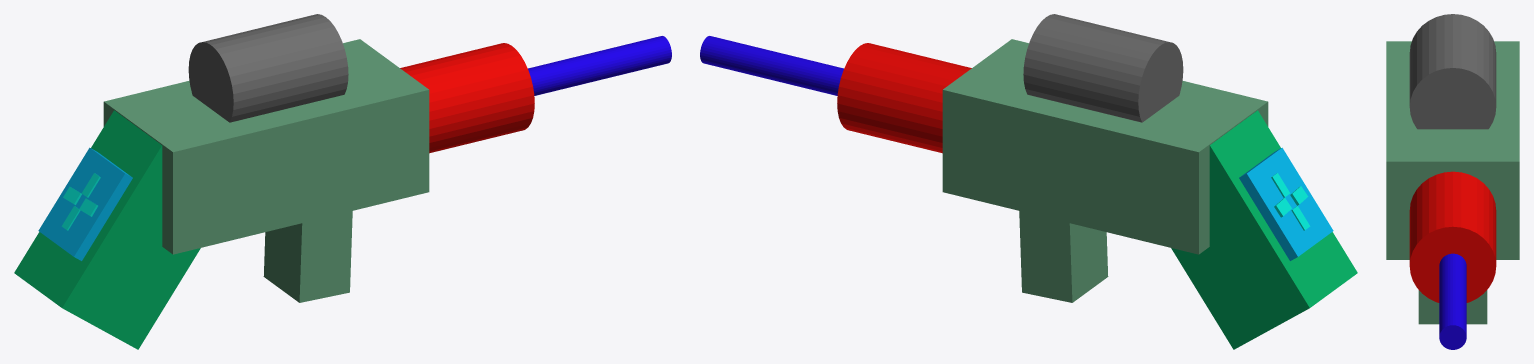
File: shotgun_to_slystroyer.glb
The picture shows the model from 3 angles, left to right: view 1: azimuth 30°, elevation 25°; view 2: azimuth 150°, elevation 25°; view 3: azimuth 270°, elevation 25°; orthographic projection. The views are drawn at different scales.
Visible parts, largest first — view 1: Cube; view 2: Cube; view 3: Cube.
Part boxes in pixels (bbox=[...]): Cube: bbox=[14, 14, 671, 349]; Cube: bbox=[700, 14, 1357, 349]; Cube: bbox=[1386, 14, 1519, 349].
Bounding box in the file's own units: 3.88 × 1.56 × 0.7426.
